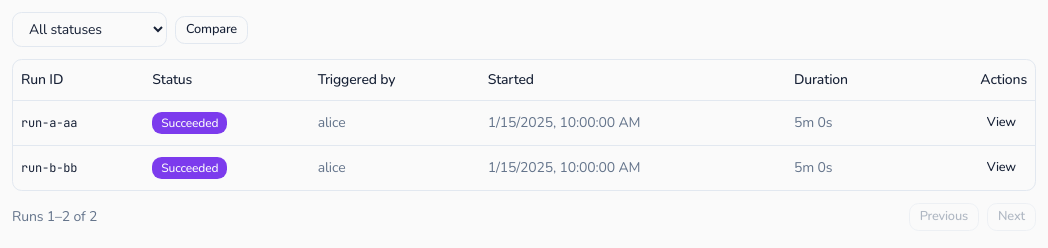
Test case: RunList › compare mode › renders one checkbox per run row while compare mode is active
Expected: the text "run-a-aa" is shown, [21,114,77,130]
Step 1. Click the button "Compare" → (212, 30), box [175,16,248,44]
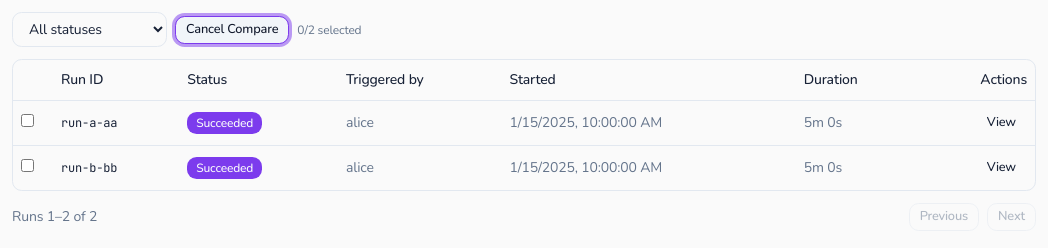
Now the number of checkboxes is 2, box [21,114,34,126]; [21,158,34,172]
